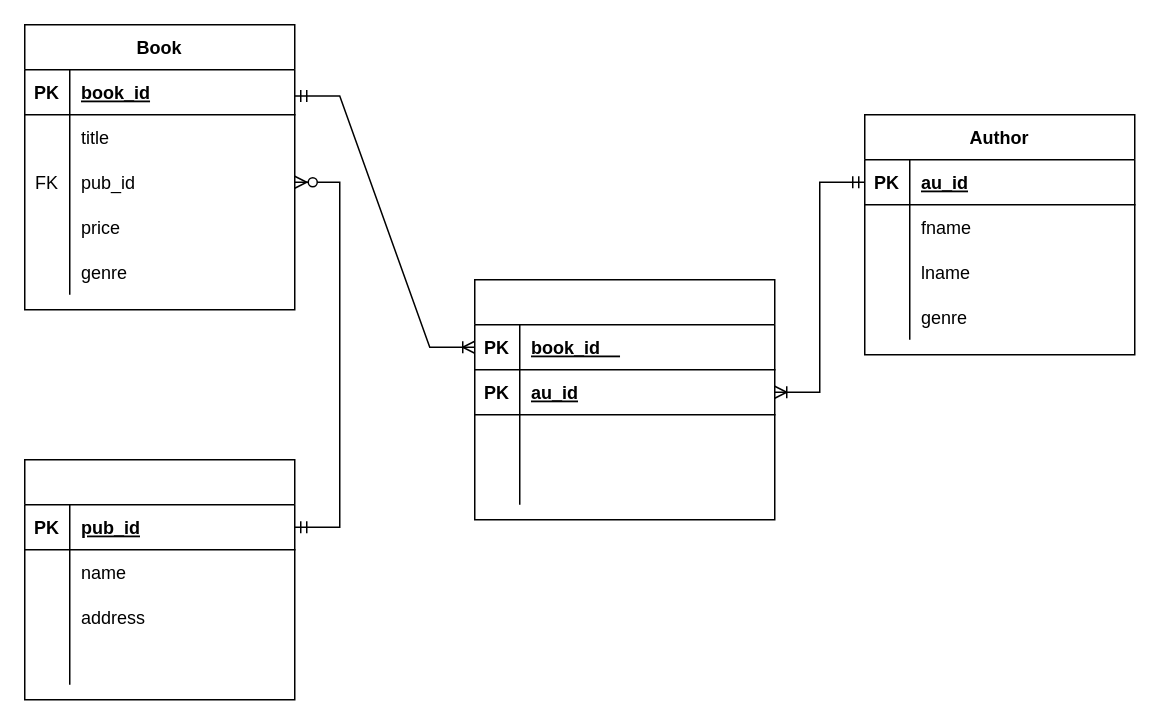
This 1160x725 diagram has some shape labels left out. Here are the shapes that lost their labels. From the top down, the box of each, then its label:
(473, 278, 775, 520): BookAuthor
(23, 458, 295, 700): Publisher
